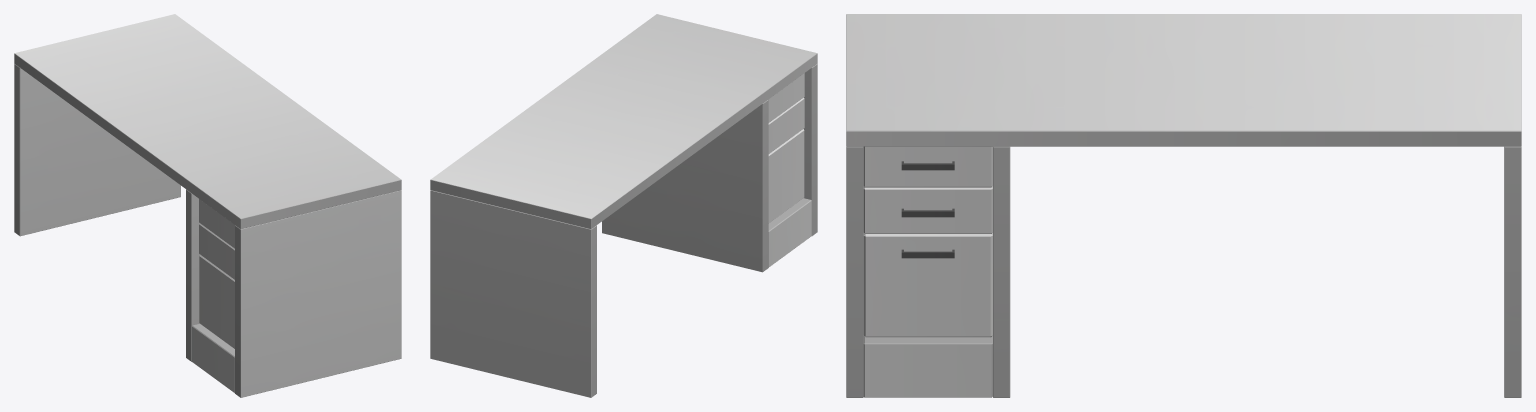
Rendered from PCDesk.fbx.
The picture shows the model from 3 angles, left to right: view 1: azimuth 30°, elevation 25°; view 2: azimuth 150°, elevation 25°; view 3: azimuth 270°, elevation 25°; orthographic projection. The views are drawn at different scales.
Parts seen in each view (by area): view 1: PCDesk; view 2: PCDesk; view 3: PCDesk.
Boxes of the visible parts, left/top/right/bottom form: PCDesk: left=14, top=14, right=401, bottom=397; PCDesk: left=430, top=14, right=817, bottom=397; PCDesk: left=846, top=14, right=1521, bottom=397.
Size of the model in its own units: 119 by 126 by 289.
1 material, 1 textured.
